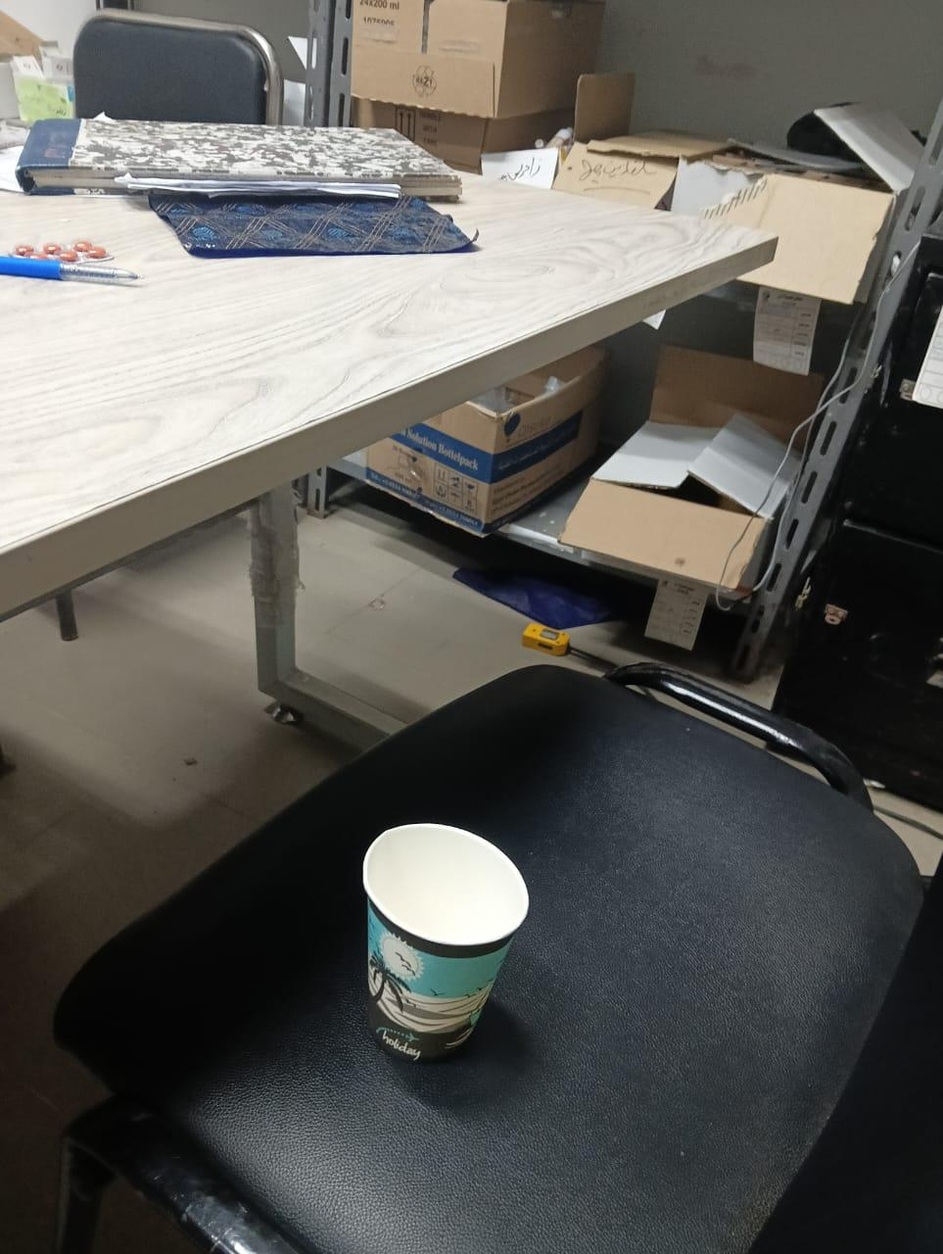cup: (362, 822, 529, 1060), (364, 823, 528, 944)
